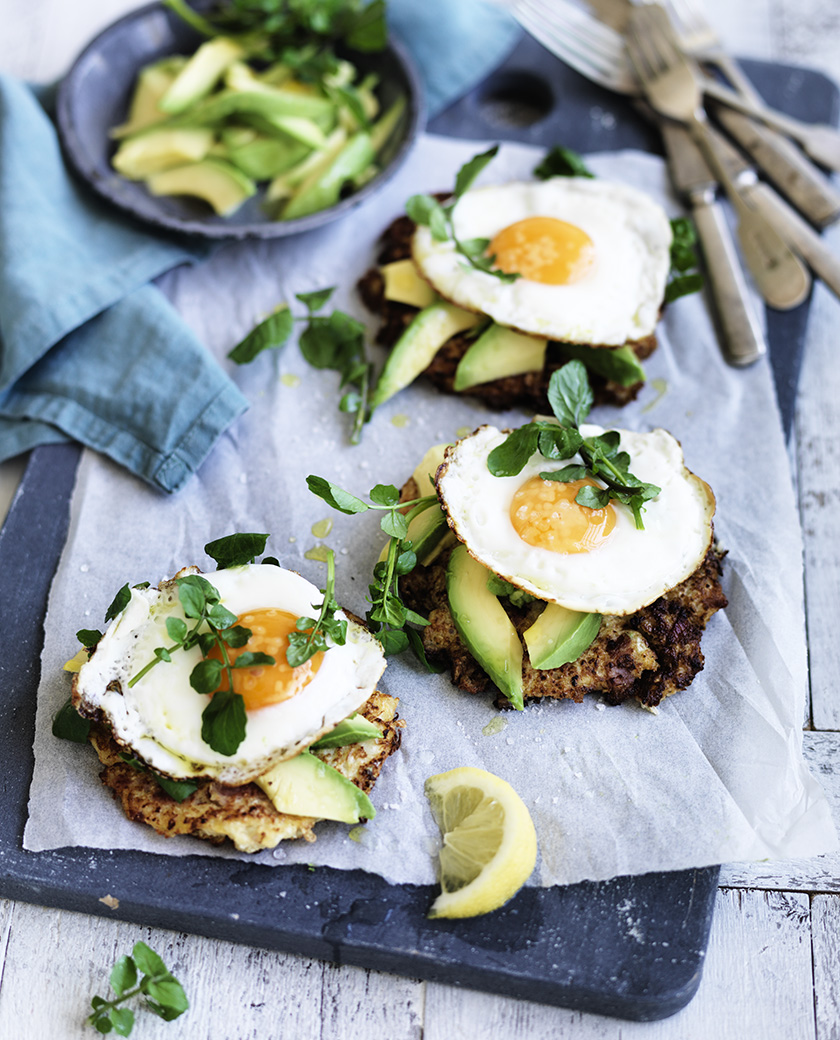fried egg: (123, 584, 347, 754), (467, 435, 692, 591), (450, 191, 652, 326)
